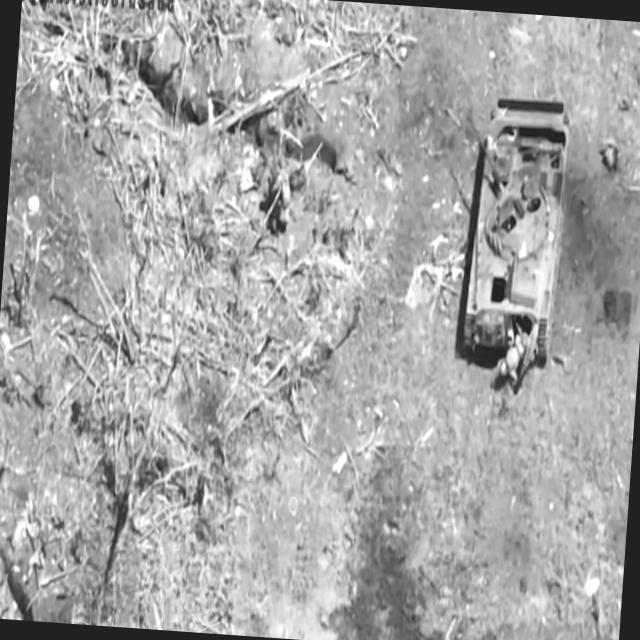AIFV: (456, 93, 576, 371)
